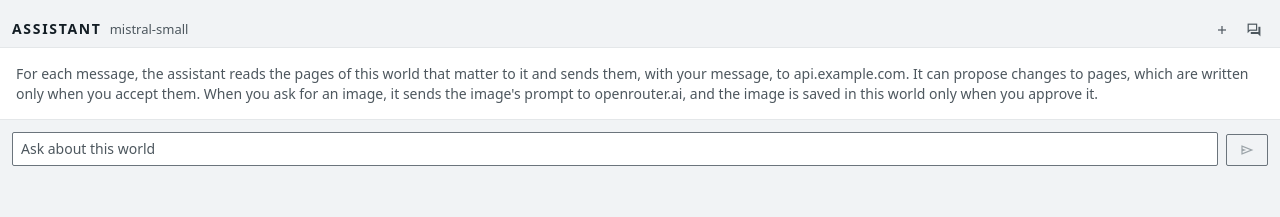
Test: sending a message › shows the message at once and sends it with the active page only after its edits saved
Type "Who lives at Kesh Tor?" into the text box named "Message".
click(615, 149); type("Who lives at Kesh Tor?")  # box [12,132,1218,166]
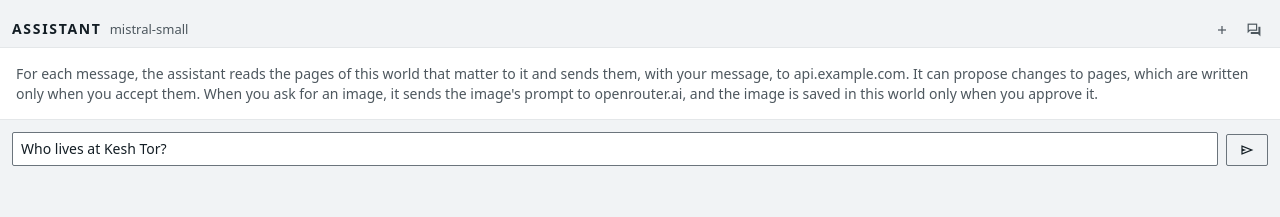
Press Enter in the text box named "Message", box [12,132,1218,166]
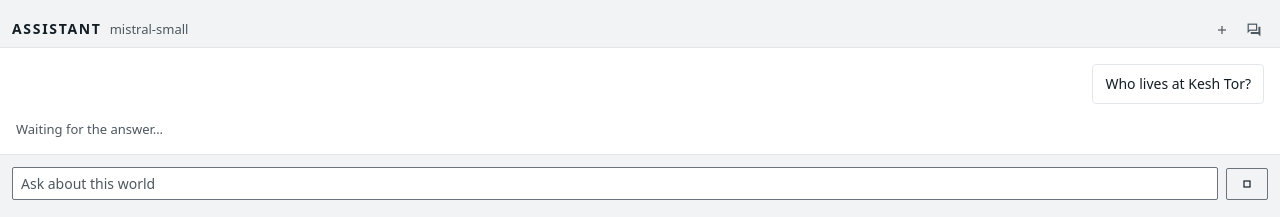
Expected: the list item "Who lives at Kesh Tor?" is shown, [1092,64,1264,104]
Expected: the text box named "Message" is empty, [12,167,1218,200]
